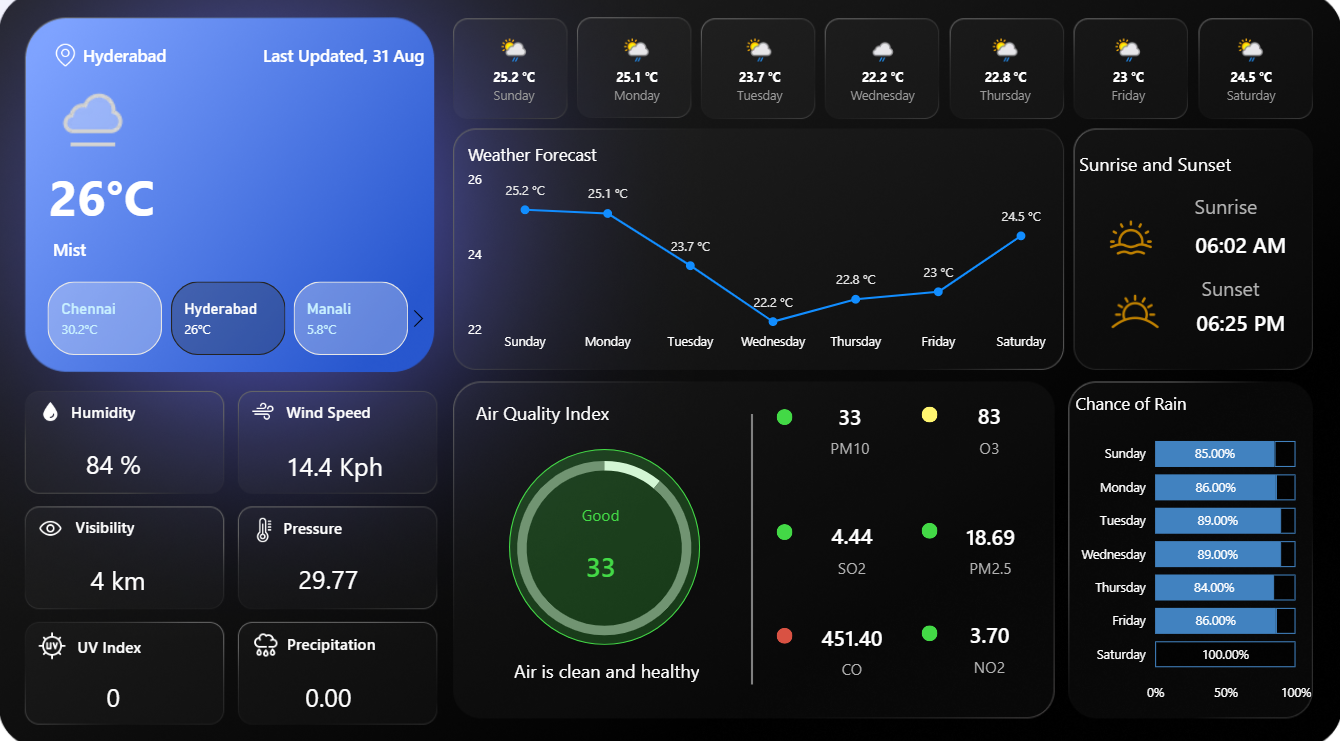

This screenshot's page, from the dashboard's own definition file:
{"tool":"powerbi","page":{"name":"Page 1","canvas":[1280,720],"ordinal":0},"visuals":[{"type":"donutChart","fields":{"Y":["Sum(Current.current.air_quality.pm10)","_Measures.Left_PM10_Value"]},"box":[467.4,410.3,217.5,234.5],"z":0},{"type":"shape","box":[485.9,433.5,182,186.6],"z":1000},{"type":"advancedSlicerVisual","fields":{"Values":["Locations.location.name"]},"box":[22,269,393.8,81],"z":2000},{"type":"shape","box":[48,152.3,171.5,79.6],"z":3000},{"type":"shape","box":[50.8,216.8,365,52.1],"z":4000},{"type":"shape","box":[222.3,31.6,182.5,52.1],"z":5000},{"type":"shape","box":[79.6,31.6,153.7,52.1],"z":6000},{"type":"image","box":[48,31.6,31.6,52.1],"z":7000},{"type":"cardVisual","fields":{"Data":["Min(Current.current.condition.icon)"]},"box":[28.8,57.6,100.2,97.4],"z":8000},{"type":"shape","box":[54.9,378.7,89.2,37],"z":9000},{"type":"shape","box":[263.5,378.7,101.5,37],"z":10000},{"type":"shape","box":[258,489.9,81,37],"z":11000},{"type":"shape","box":[267.6,599.7,97.4,37],"z":12000},{"type":"image","box":[28.8,491.3,41.2,34.3],"z":13000},{"type":"shape","box":[67.2,488.5,68.6,37],"z":14000},{"type":"shape","box":[67.2,602.4,76.8,37],"z":15000},{"type":"image","box":[34.3,381.5,28.8,34.3],"z":16000},{"type":"image","box":[236,378.7,31.6,37],"z":17000},{"type":"image","box":[31.6,602.4,37,37],"z":18000},{"type":"image","box":[234.6,494,35.7,32.9],"z":19000},{"type":"image","box":[236,599.7,37,39.8],"z":20000},{"type":"card","fields":{"Values":["_Measures.Humidity"]},"box":[71.4,415.8,75.5,68.6],"z":21000},{"type":"card","fields":{"Values":["_Measures.Wind_Speed"]},"box":[254.4,416.2,130,69.1],"z":22000},{"type":"card","fields":{"Values":["Sum(Current.current.pressure_in)"]},"box":[275.8,525.5,75.5,68.2],"z":23000},{"type":"card","fields":{"Values":["_Measures.Visibility"]},"box":[71.4,525,84.5,69],"z":24000},{"type":"card","fields":{"Values":["Sum(Current.current.precip_in)"]},"box":[275.8,637.2,75.5,68.2],"z":25000},{"type":"card","fields":{"Values":["Sum(Current.current.uv)"]},"box":[71.1,637.2,75.5,68.2],"z":26000},{"type":"advancedSlicerVisual","fields":{"Values":["Forecast_Day.Day_Name"]},"box":[430.9,31.6,824.7,90.6],"z":27000},{"type":"lineChart","title":"Weather Forecast","fields":{"Y":["Sum(Forecast_Day.forecast.forecastday.day.avgtemp_c)"],"Category":["Forecast_Day.Day_Name"]},"box":[441.9,142.1,568.3,207.7],"z":28000},{"type":"shape","box":[1018.9,142.4,164.3,37.6],"z":29000},{"type":"shape","box":[1122.6,207.7,120.2,60.9],"z":30000},{"type":"shape","box":[1122.6,282.6,120.2,60.9],"z":31000},{"type":"shape","box":[1108.6,171.7,120.2,60.9],"z":32000},{"type":"shape","box":[1116.4,248.3,112.4,60.9],"z":33000},{"type":"image","box":[1047.7,207.7,60.9,50],"z":34000},{"type":"image","box":[1047.7,265.4,68.7,73.4],"z":35000},{"type":"hundredPercentStackedBarChart","title":"Chance of Rain","fields":{"Y":["Sum(Forecast_Day.forecast.forecastday.day.daily_chance_of_rain)","_Measures.Left_Value_Rain"],"Category":["Forecast_Day.Day_Name"]},"box":[1020.5,378.8,234.8,305.2],"z":36000},{"type":"shape","box":[441.4,380.3,151.8,37.6],"z":37000},{"type":"card","fields":{"Values":["Sum(Current.current.air_quality.o3)"]},"box":[879,380,129.9,68.9],"z":38000},{"type":"card","fields":{"Values":["Sum(Current.current.air_quality.so2)"]},"box":[747.3,493.6,129.9,68.9],"z":39000},{"type":"card","fields":{"Values":["Sum(Current.current.air_quality.co)"]},"box":[747.3,590.6,129.9,68.9],"z":40000},{"type":"card","fields":{"Values":["Sum(Current.current.air_quality.pm2_5)"]},"box":[879.3,493.6,129.6,69.4],"z":41000},{"type":"card","fields":{"Values":["Sum(Current.current.air_quality.pm10)"]},"box":[745,379.5,131.1,69.4],"z":42000},{"type":"card","fields":{"Values":["Sum(Current.current.air_quality.no2)"]},"box":[879,588.2,129.9,68.9],"z":43000},{"type":"shape","box":[740.4,395.5,15.4,15.4],"z":44000},{"type":"shape","box":[740.4,505,15.4,15.4],"z":45000},{"type":"shape","box":[740.4,603.8,15.4,15.4],"z":46000},{"type":"shape","box":[878.9,393,15.4,15.4],"z":47000},{"type":"shape","box":[878.9,504.1,15.4,15.4],"z":48000},{"type":"shape","box":[878.9,601.3,15.4,15.4],"z":49000},{"type":"shape","box":[678.7,399.5,77.1,257.6],"z":50000},{"type":"card","fields":{"Values":["Sum(Current.current.air_quality.pm10)"]},"box":[506,485.7,134.5,102.4],"z":51000},{"type":"shape","box":[452,626.3,253,37],"z":52000}]}

Visuals, with their boxes in screenshot pixels (x1, y1, x2, y2), scaled from the page's 1280x720 canvas onto the 1340x741 screenshot:
donutChart - Sum(Current.current.air_quality.pm10) x _Measures.Left_PM10_Value: 489 422 717 664
shape: 509 446 699 638
advancedSlicerVisual - Locations.location.name: 23 277 435 360
shape: 50 157 230 239
shape: 53 223 435 277
shape: 233 33 424 86
shape: 83 33 244 86
image: 50 33 83 86
cardVisual - Min(Current.current.condition.icon): 30 59 135 160
shape: 57 390 151 428
shape: 276 390 382 428
shape: 270 504 355 542
shape: 280 617 382 655
image: 30 506 73 541
shape: 70 503 142 541
shape: 70 620 151 658
image: 36 393 66 428
image: 247 390 280 428
image: 33 620 72 658
image: 246 508 283 542
image: 247 617 286 658
card - _Measures.Humidity: 75 428 154 499
card - _Measures.Wind_Speed: 266 428 402 499
card - Sum(Current.current.pressure_in): 289 541 368 611
card - _Measures.Visibility: 75 540 163 611
card - Sum(Current.current.precip_in): 289 656 368 726
card - Sum(Current.current.uv): 74 656 153 726
advancedSlicerVisual - Forecast_Day.Day_Name: 451 33 1314 126
"Weather Forecast" lineChart: 463 146 1058 360
shape: 1067 147 1239 185
shape: 1175 214 1301 276
shape: 1175 291 1301 354
shape: 1161 177 1286 239
shape: 1169 256 1286 318
image: 1097 214 1161 265
image: 1097 273 1169 349
"Chance of Rain" hundredPercentStackedBarChart: 1068 390 1314 704
shape: 462 391 621 430
card - Sum(Current.current.air_quality.o3): 920 391 1056 462
card - Sum(Current.current.air_quality.so2): 782 508 918 579
card - Sum(Current.current.air_quality.co): 782 608 918 679
card - Sum(Current.current.air_quality.pm2_5): 921 508 1056 579
card - Sum(Current.current.air_quality.pm10): 780 391 917 462
card - Sum(Current.current.air_quality.no2): 920 605 1056 676
shape: 775 407 791 423
shape: 775 520 791 536
shape: 775 621 791 637
shape: 920 404 936 420
shape: 920 519 936 535
shape: 920 619 936 635
shape: 711 411 791 676
card - Sum(Current.current.air_quality.pm10): 530 500 671 605
shape: 473 645 738 683
